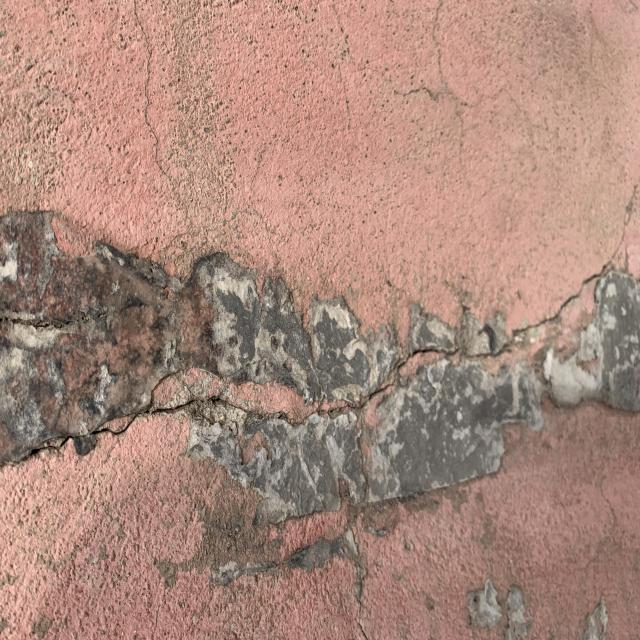horizontal crack: (0, 199, 637, 480)
multi-branched crack: (0, 0, 640, 640)
